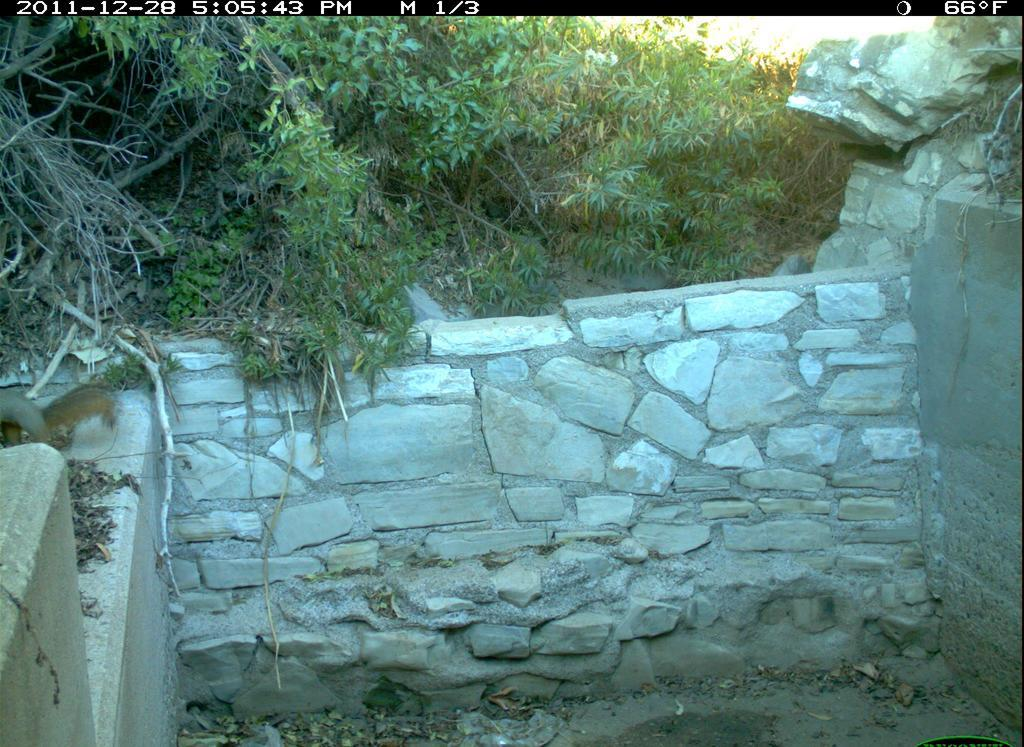squirrel: (1, 378, 125, 451)
